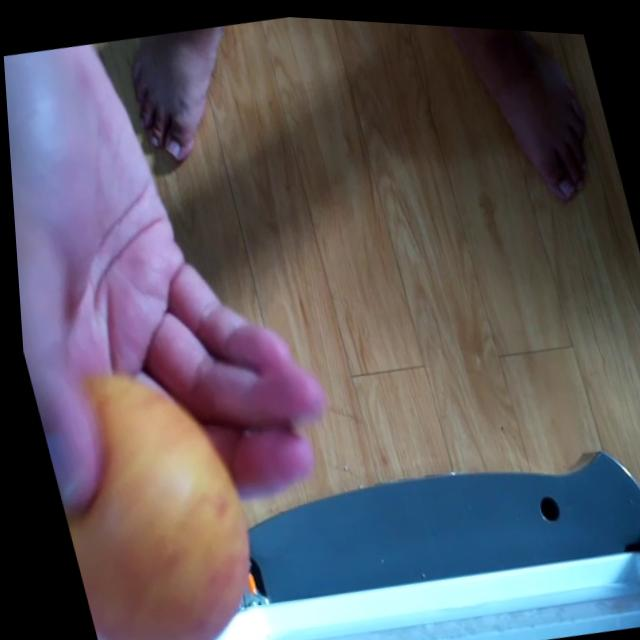apple: (24, 346, 269, 640)
